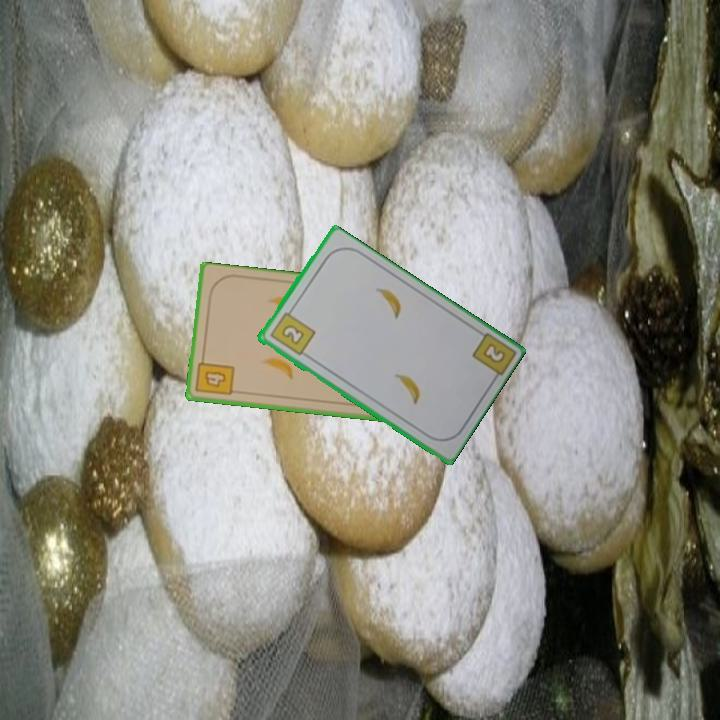2b: (266, 305, 318, 358), (479, 339, 508, 366)
4b: (192, 353, 237, 398)
